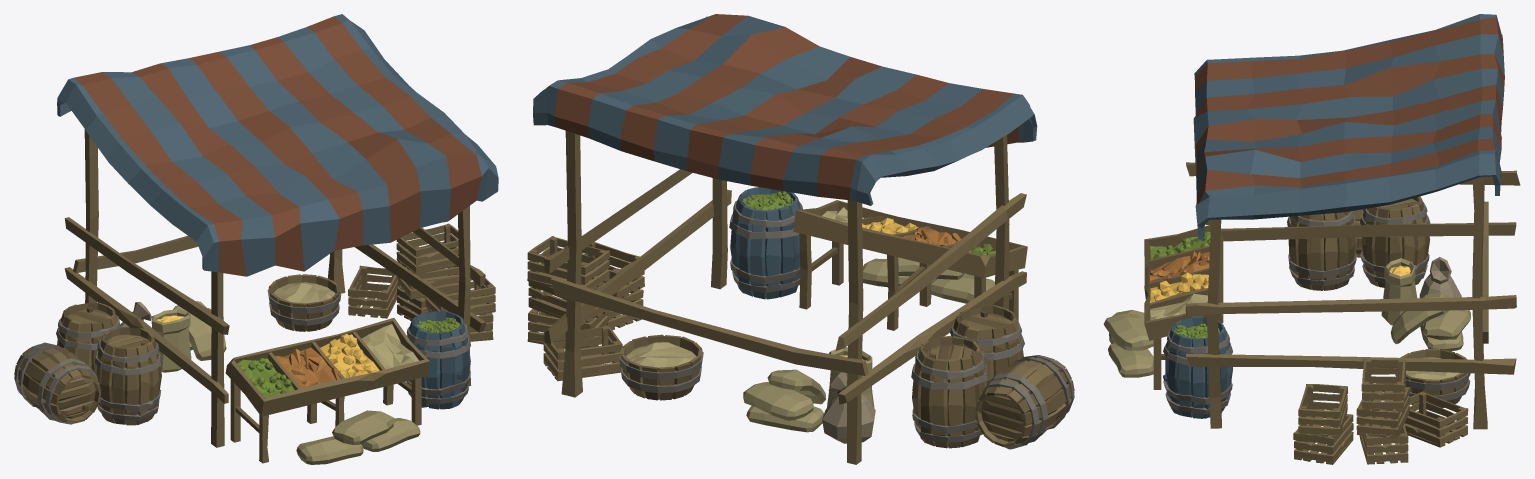
The model's file is Market_1.fbx.
3 renders of one model, left to right at view 1: azimuth 30°, elevation 25°; view 2: azimuth 150°, elevation 25°; view 3: azimuth 270°, elevation 25°, orthographic. The views are drawn at different scales.
Visible parts, largest first — view 1: Market_1; view 2: Market_1; view 3: Market_1.
Part boxes in pixels (x1,y1,x2,y2): Market_1: (14,14,498,464); Market_1: (527,14,1074,464); Market_1: (1103,14,1520,464).
Size of the model in its own units: 557 by 325 by 436.
